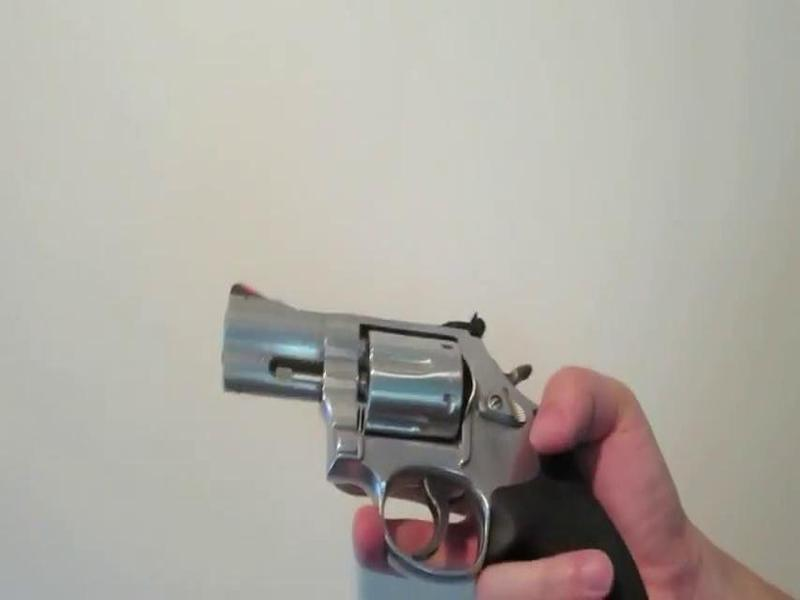Revolver: (186, 244, 605, 589)
